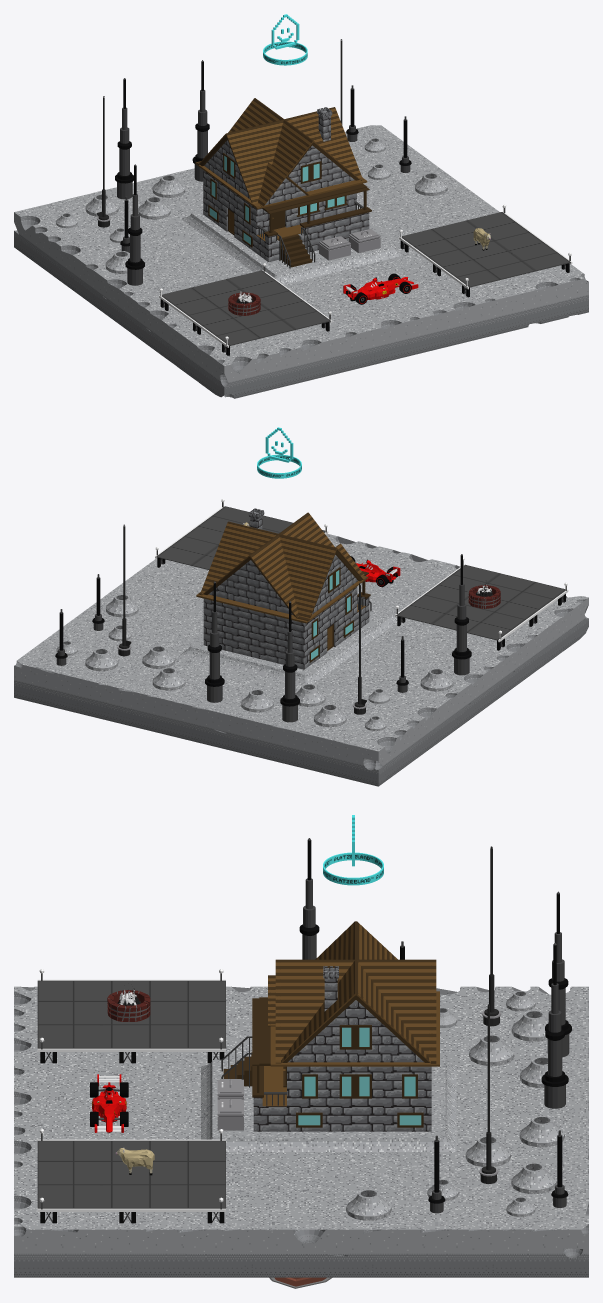
The picture shows the model from 3 angles, top to bottom: view 1: azimuth 30°, elevation 25°; view 2: azimuth 150°, elevation 25°; view 3: azimuth 270°, elevation 25°; orthographic projection. The views are drawn at different scales.
Parts seen in each view (by area): view 1: Cube.027, Cube.586, Cube.026, Cube.025, Cube.028, VEHICLES_FORMULA_1, Cylinder.021, Cylinder.020, Cylinder.017, TYPE_PREMIUM, OBJRANDOM_CAMPFIRE, Cube.029 (+4 smaller); view 2: Cube.027, Cube.586, Cube.025, Cube.028, Cube.026, Cylinder.021, Cylinder.020, Cylinder.017, TYPE_PREMIUM, OBJRANDOM_CAMPFIRE, VEHICLES_FORMULA_1, Cylinder.025 (+8 smaller); view 3: Cube.027, Cube.586, Cube.026, Cube.025, Cube.028, Cylinder.017, VEHICLES_FORMULA_1, OBJRANDOM_CAMPFIRE, Cylinder.020, Cylinder.021, TYPE_PREMIUM, Cylinder.033 (+12 smaller).
Part boxes in pixels (bbox=[...]): Cube.027: bbox=[14, 125, 588, 398]; Cube.586: bbox=[195, 98, 371, 268]; Cube.026: bbox=[399, 204, 572, 297]; Cube.025: bbox=[159, 263, 332, 355]; Cube.028: bbox=[182, 210, 402, 284]; VEHICLES_FORMULA_1: bbox=[343, 273, 418, 304]; Cylinder.021: bbox=[125, 164, 144, 285]; Cylinder.020: bbox=[115, 78, 133, 199]; Cylinder.017: bbox=[192, 60, 209, 181]; TYPE_PREMIUM: bbox=[263, 14, 307, 65]; OBJRANDOM_CAMPFIRE: bbox=[228, 291, 260, 315]; Cube.029: bbox=[319, 236, 350, 260]; Cube.027: bbox=[14, 534, 588, 786]; Cube.586: bbox=[196, 508, 371, 669]; Cube.025: bbox=[395, 557, 568, 650]; Cube.028: bbox=[180, 607, 397, 685]; Cube.026: bbox=[155, 499, 328, 569]; Cylinder.021: bbox=[452, 554, 471, 675]; Cylinder.020: bbox=[280, 601, 299, 722]; Cylinder.017: bbox=[205, 581, 224, 702]; TYPE_PREMIUM: bbox=[257, 427, 301, 478]; OBJRANDOM_CAMPFIRE: bbox=[468, 584, 500, 608]; VEHICLES_FORMULA_1: bbox=[350, 556, 400, 587]; Cylinder.025: bbox=[420, 668, 453, 691]; Cube.027: bbox=[14, 986, 588, 1277]; Cube.586: bbox=[221, 921, 439, 1131]; Cube.026: bbox=[37, 1129, 225, 1223]; Cube.025: bbox=[37, 969, 225, 1063]; Cube.028: bbox=[201, 1059, 456, 1151]; Cylinder.017: bbox=[541, 943, 568, 1108]; VEHICLES_FORMULA_1: bbox=[90, 1074, 128, 1132]; OBJRANDOM_CAMPFIRE: bbox=[107, 988, 150, 1021]; Cylinder.020: bbox=[545, 891, 571, 1057]; Cylinder.021: bbox=[299, 838, 319, 959]; TYPE_PREMIUM: bbox=[323, 815, 383, 885]; Cylinder.033: bbox=[346, 1189, 391, 1220].
Bounding box in the file's own units: 4000 × 3420 × 4000.
41 materials, 6 textured.
